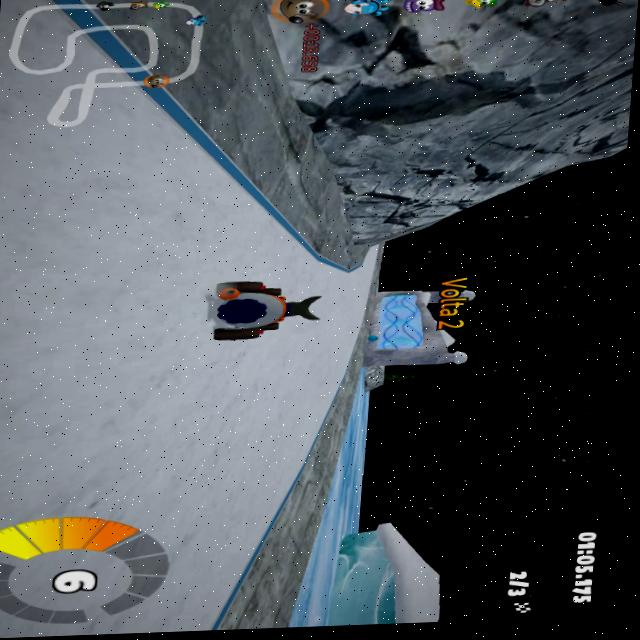player_kart: (193, 281, 321, 342)
